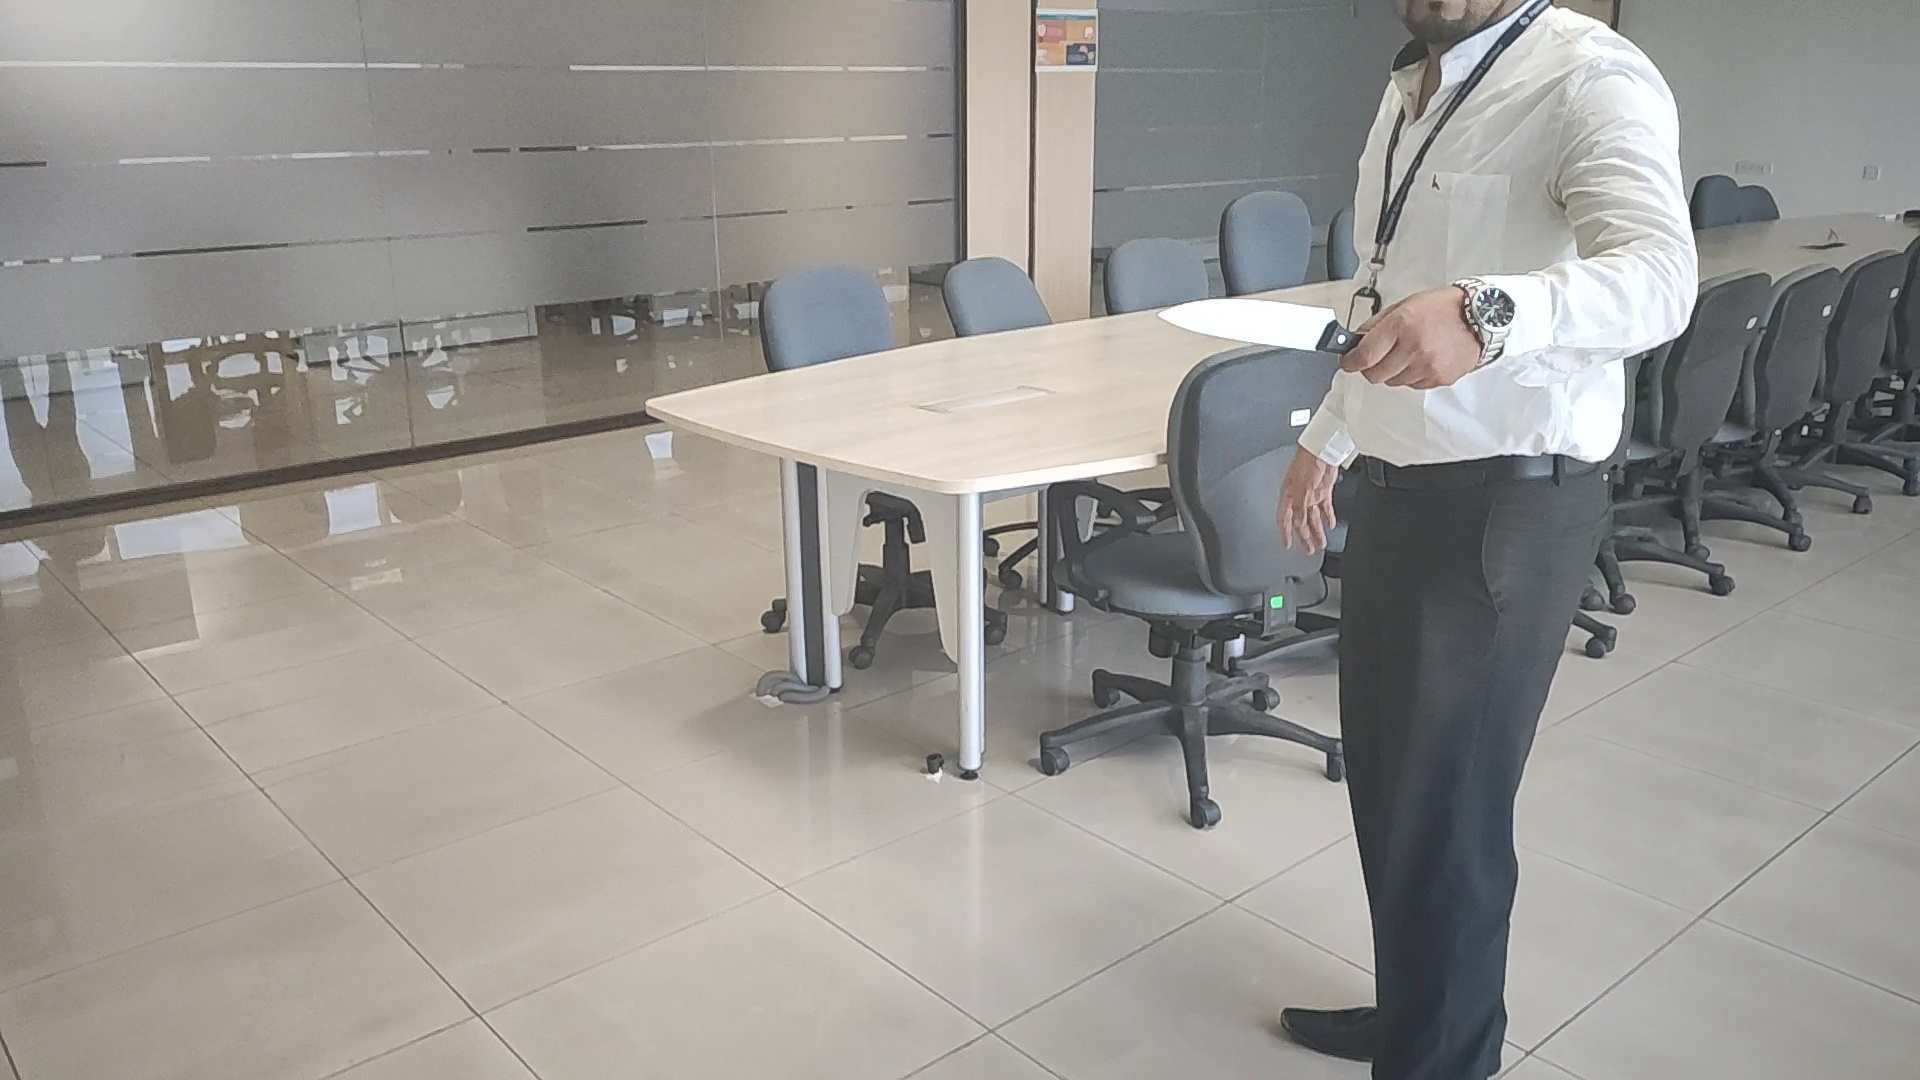knife: (1156, 295, 1358, 351)
